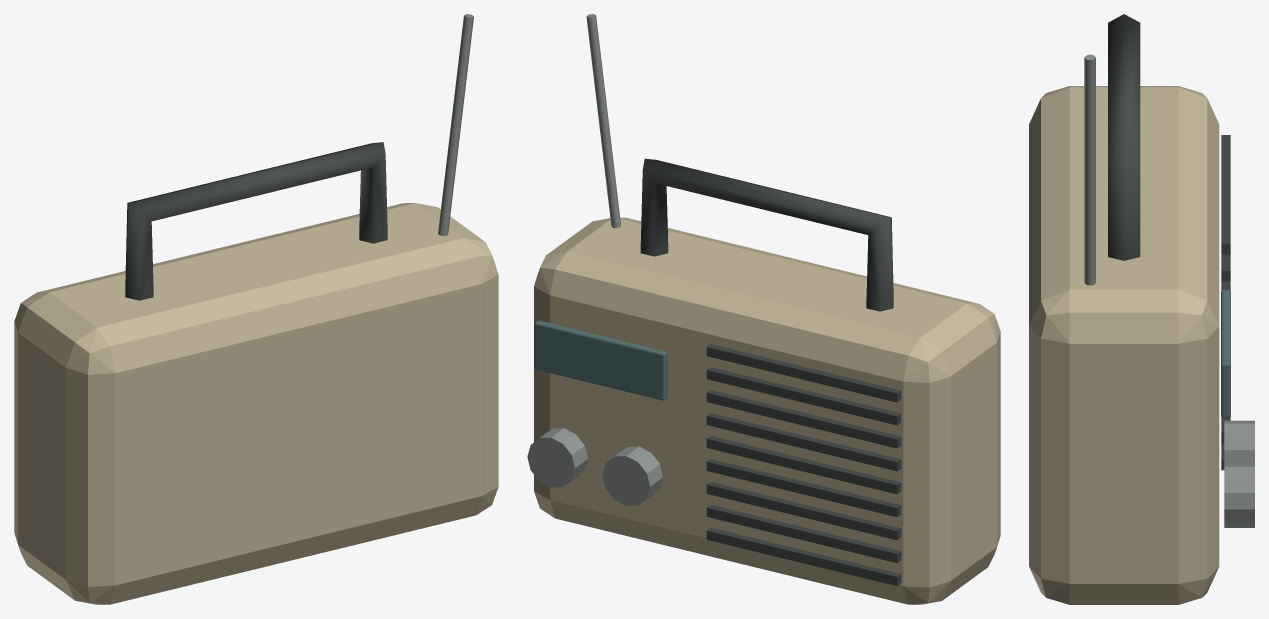
File: portable_radio.gltf
The picture shows the model from 3 angles, left to right: view 1: azimuth 30°, elevation 25°; view 2: azimuth 150°, elevation 25°; view 3: azimuth 270°, elevation 25°; orthographic projection. The views are drawn at different scales.
Parts seen in each view (by area): view 1: portable_radio__paint_cream, portable_radio__dark_steel, portable_radio__steel; view 2: portable_radio__paint_cream, portable_radio__dark_steel, portable_radio__steel, portable_radio__glass; view 3: portable_radio__paint_cream, portable_radio__dark_steel, portable_radio__steel, portable_radio__glass.
Part boxes in pixels (x1,y1,x2,y2): portable_radio__paint_cream: [14, 203, 498, 604]; portable_radio__dark_steel: [125, 142, 387, 300]; portable_radio__steel: [438, 14, 473, 236]; portable_radio__paint_cream: [534, 217, 1000, 604]; portable_radio__dark_steel: [640, 158, 901, 585]; portable_radio__steel: [527, 14, 662, 505]; portable_radio__glass: [534, 320, 667, 400]; portable_radio__paint_cream: [1029, 86, 1219, 604]; portable_radio__dark_steel: [1108, 14, 1230, 470]; portable_radio__steel: [1084, 54, 1254, 527]; portable_radio__glass: [1221, 290, 1230, 418].
Bounding box in the file's own units: 1.65 × 1.8 × 0.665.
